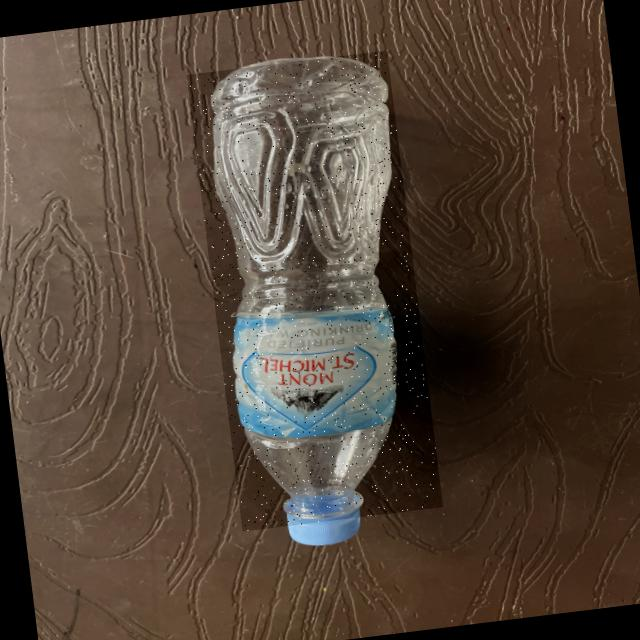REJECT: (185, 50, 442, 531)
